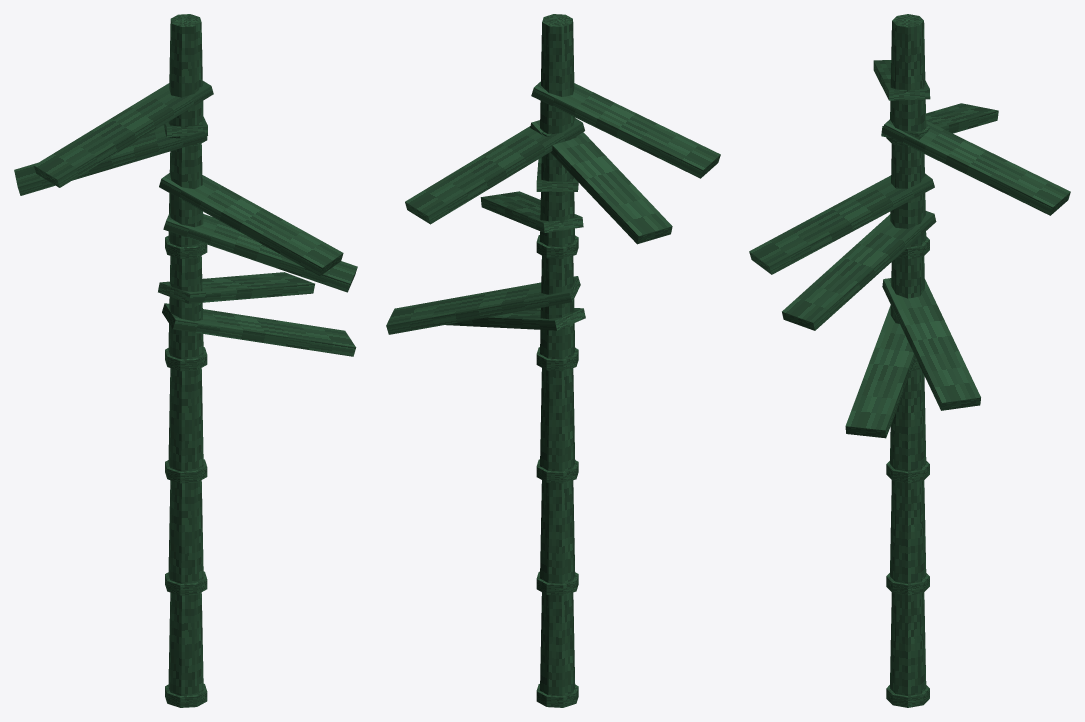
The model's file is bamboo_00.glb.
3 views of the same model, side by side, from view 1: azimuth 30°, elevation 25°; view 2: azimuth 150°, elevation 25°; view 3: azimuth 270°, elevation 25° (orthographic).
Visible parts, largest first — view 1: Leaf.006, Leaf.004, Leaf.003, Leaf.001, Stem.001, Stem.002, Stem, Stem.005, Leaf, Leaf.002, Stem.003, Stem.004 (+5 smaller); view 2: Leaf.006, Leaf.005, Leaf.002, Leaf, Stem.002, Stem, Stem.001, Stem.005, Stem.003, Stem.004, Leaf.001, Leaf.003 (+6 smaller); view 3: Leaf.001, Leaf.004, Leaf, Leaf.005, Leaf.003, Stem.005, Stem, Stem.001, Stem.002, Stem.004, Leaf.002, Stem.003 (+4 smaller).
Boxes of the visible parts, bbox=[...] form: Leaf.006: bbox=[34, 81, 213, 187]; Leaf.004: bbox=[159, 173, 343, 275]; Leaf.003: bbox=[162, 303, 356, 356]; Leaf.001: bbox=[163, 213, 357, 292]; Stem.001: bbox=[168, 480, 203, 583]; Stem.002: bbox=[168, 368, 203, 471]; Stem: bbox=[168, 592, 203, 695]; Stem.005: bbox=[168, 14, 203, 128]; Leaf: bbox=[158, 272, 314, 303]; Leaf.002: bbox=[14, 125, 206, 195]; Stem.003: bbox=[168, 256, 203, 359]; Stem.004: bbox=[168, 143, 203, 247]; Leaf.006: bbox=[531, 81, 720, 178]; Leaf.005: bbox=[405, 118, 584, 224]; Leaf.002: bbox=[530, 120, 672, 244]; Leaf: bbox=[386, 276, 580, 334]; Stem.002: bbox=[540, 368, 575, 471]; Stem: bbox=[540, 592, 575, 695]; Stem.001: bbox=[540, 480, 575, 583]; Stem.005: bbox=[540, 14, 574, 134]; Stem.003: bbox=[540, 256, 575, 359]; Stem.004: bbox=[540, 152, 575, 247]; Leaf.001: bbox=[480, 191, 583, 232]; Leaf.003: bbox=[446, 308, 585, 330]; Leaf.001: bbox=[782, 211, 936, 330]; Leaf.004: bbox=[749, 173, 934, 274]; Leaf: bbox=[882, 278, 980, 410]; Leaf.005: bbox=[881, 119, 1070, 215]; Leaf.003: bbox=[845, 305, 915, 438]; Stem.005: bbox=[890, 14, 926, 131]; Stem: bbox=[890, 592, 926, 695]; Stem.001: bbox=[890, 480, 926, 583]; Stem.002: bbox=[890, 369, 926, 471]; Stem.004: bbox=[890, 144, 926, 247]; Leaf.002: bbox=[881, 103, 998, 139]; Stem.003: bbox=[890, 256, 924, 323].
Bounding box in the file's own units: 1.49 × 3.26 × 1.4.
Materials: 1 (1 with a texture image).
